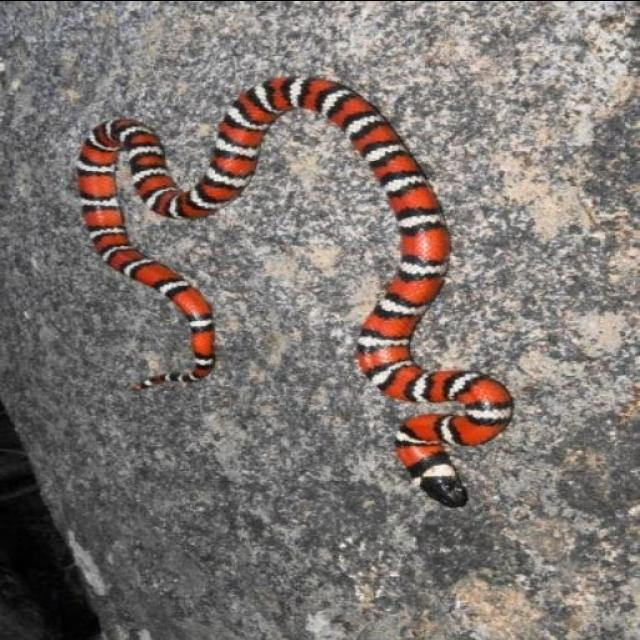snake: (66, 41, 520, 509)
